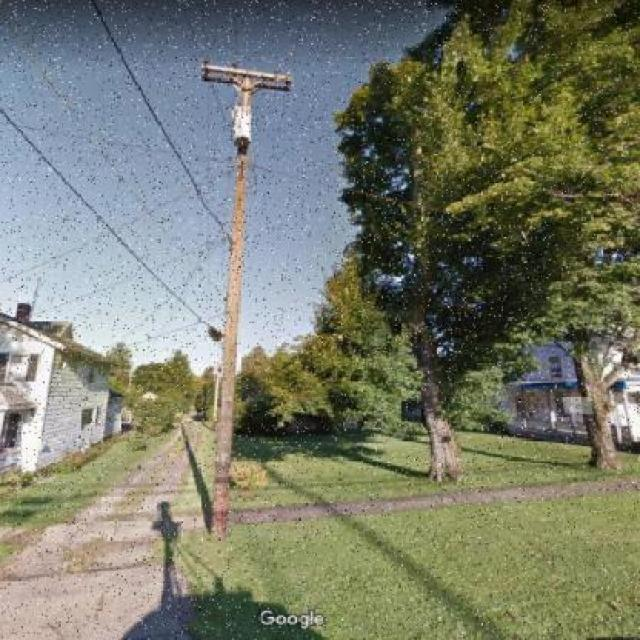pole: (148, 17, 292, 557)
